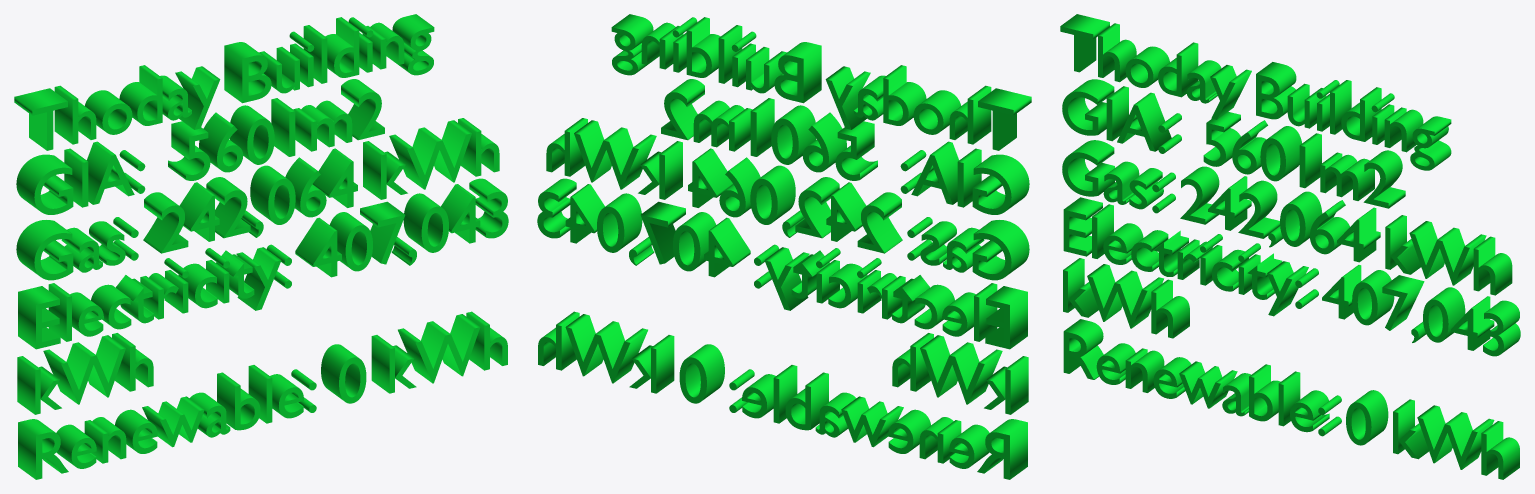
Rendered from Thoday.gltf.
3 views of the same model, side by side, from view 1: azimuth 30°, elevation 25°; view 2: azimuth 150°, elevation 25°; view 3: azimuth 330°, elevation 25° (orthographic). The views are drawn at different scales.
Visible parts, largest first — view 1: Text; view 2: Text; view 3: Text.
Boxes of the visible parts, <box> form: Text: <box>14,14,508,479</box>; Text: <box>537,14,1031,479</box>; Text: <box>1060,14,1520,479</box>.
Size of the model in its own units: 7.63 by 5.69 by 0.5.
